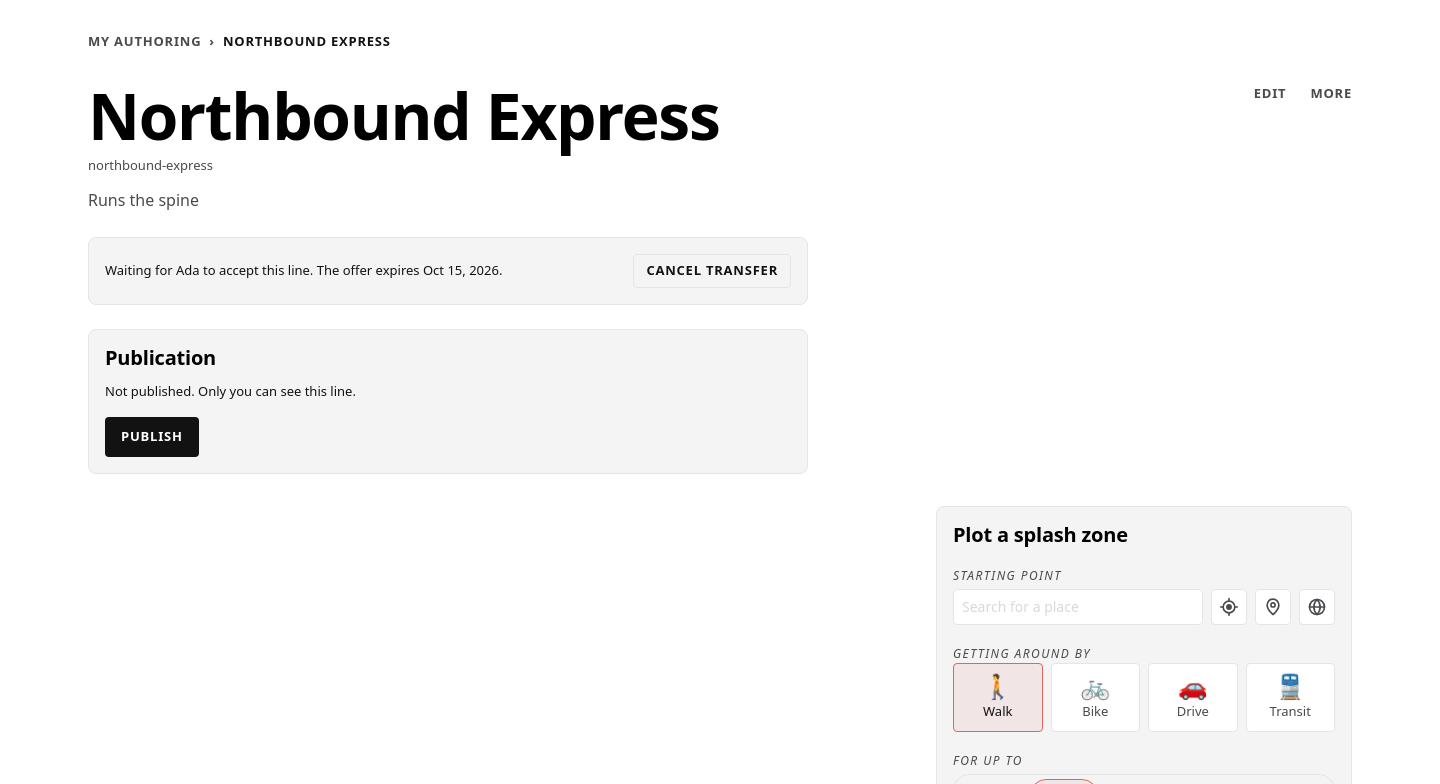
AuthoredServiceView › transferring the line › cancels a pending offer once confirmed, and offers Transfer… again
Click the button with test id "cancel-handover": coordinates (712, 271) [633,254,791,288]
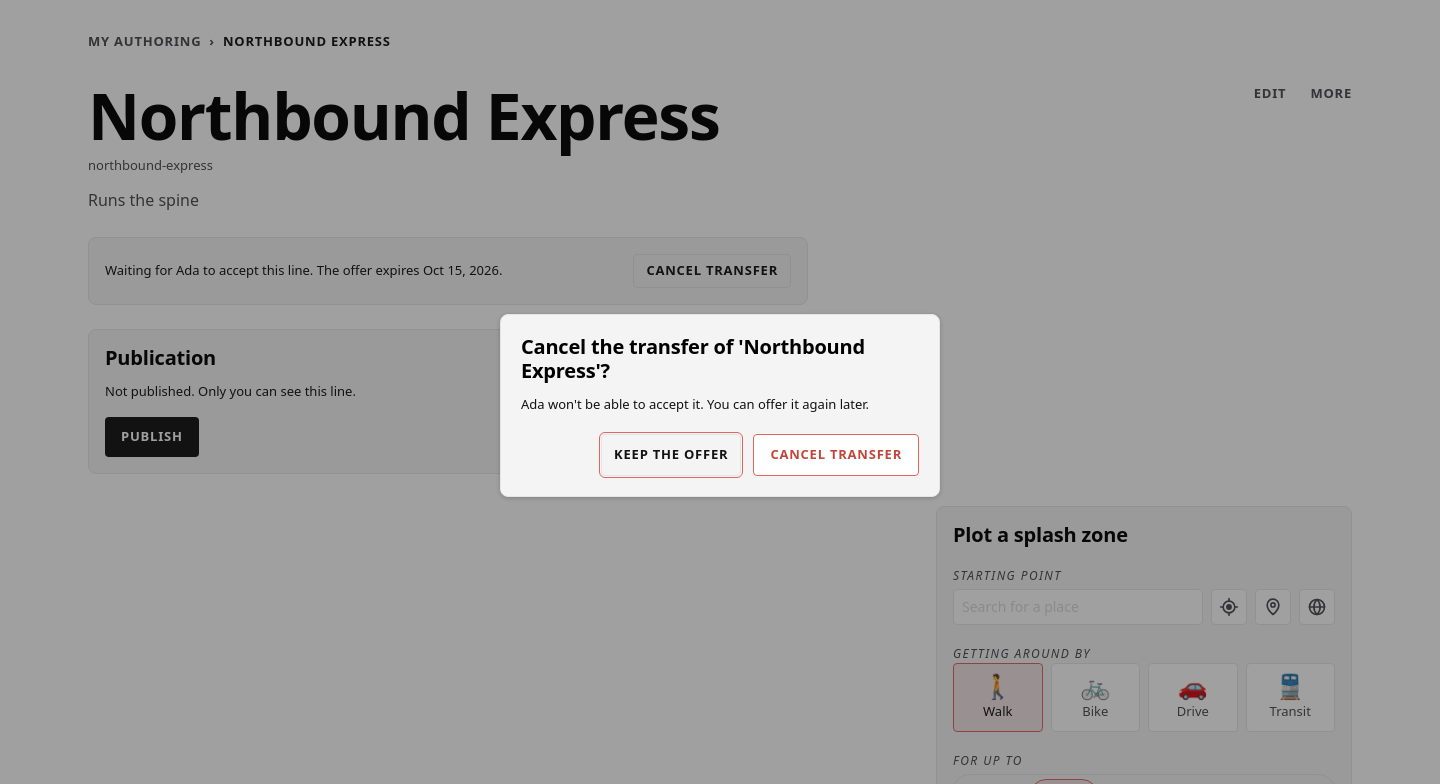
Click the button with test id "confirm-dialog-confirm": coordinates (836, 455) [753,434,919,476]
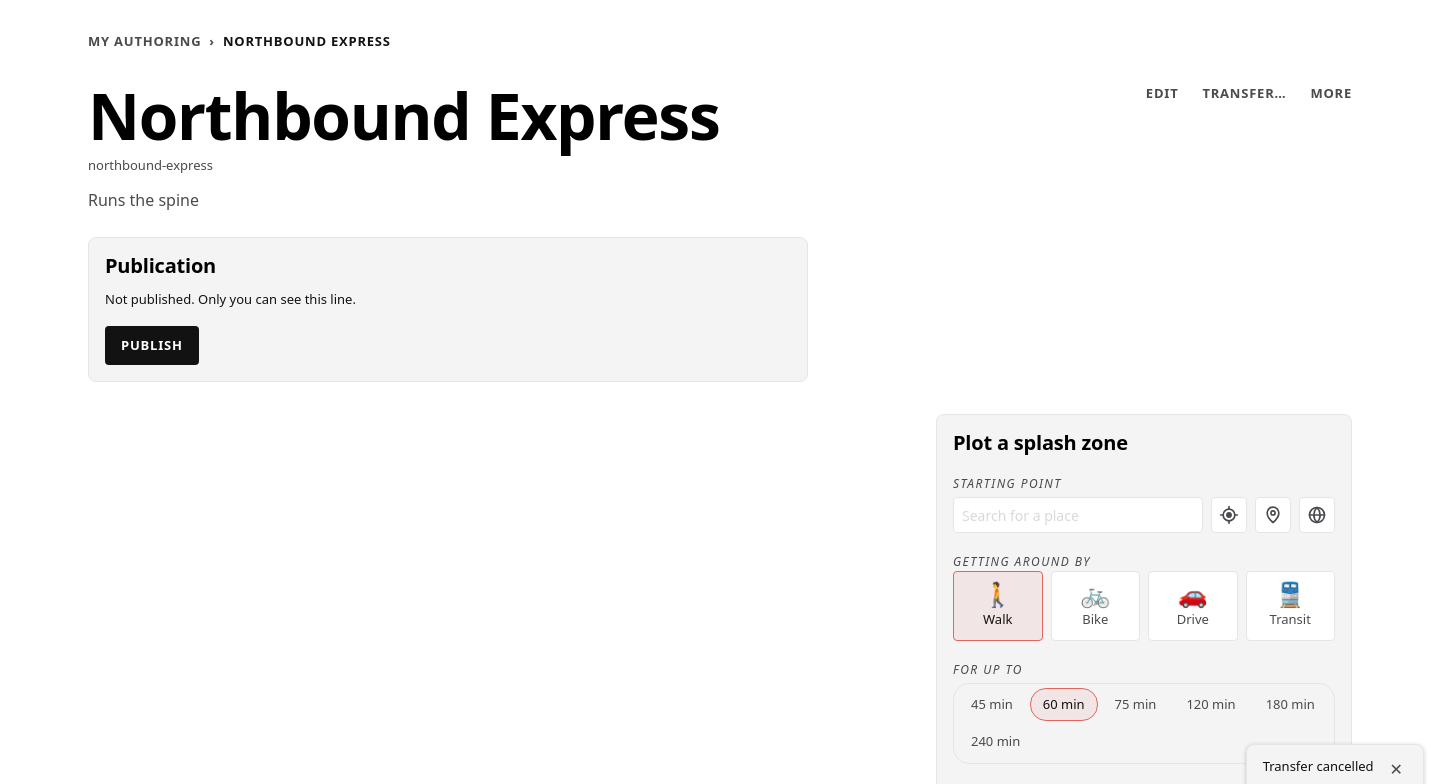
Expected: the button with test id "offer-handover" is shown, [1202,84,1286,103]
